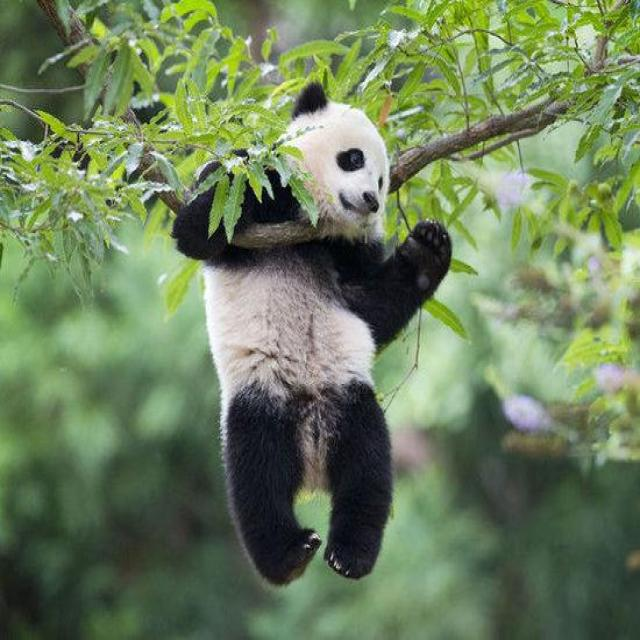panda: (156, 77, 472, 603)
